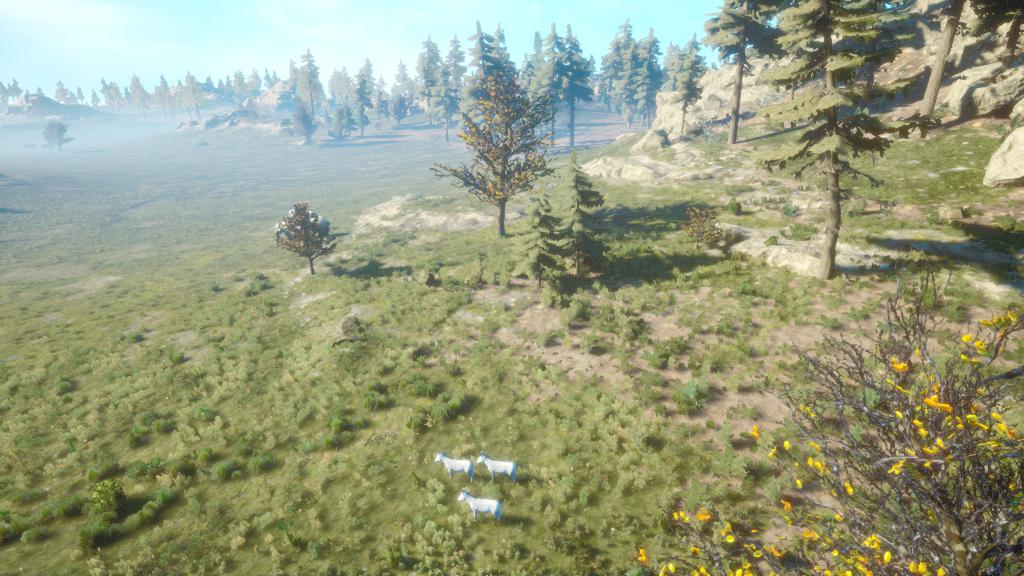zebra: (456, 490, 506, 522), (477, 452, 521, 486), (434, 451, 477, 482)
